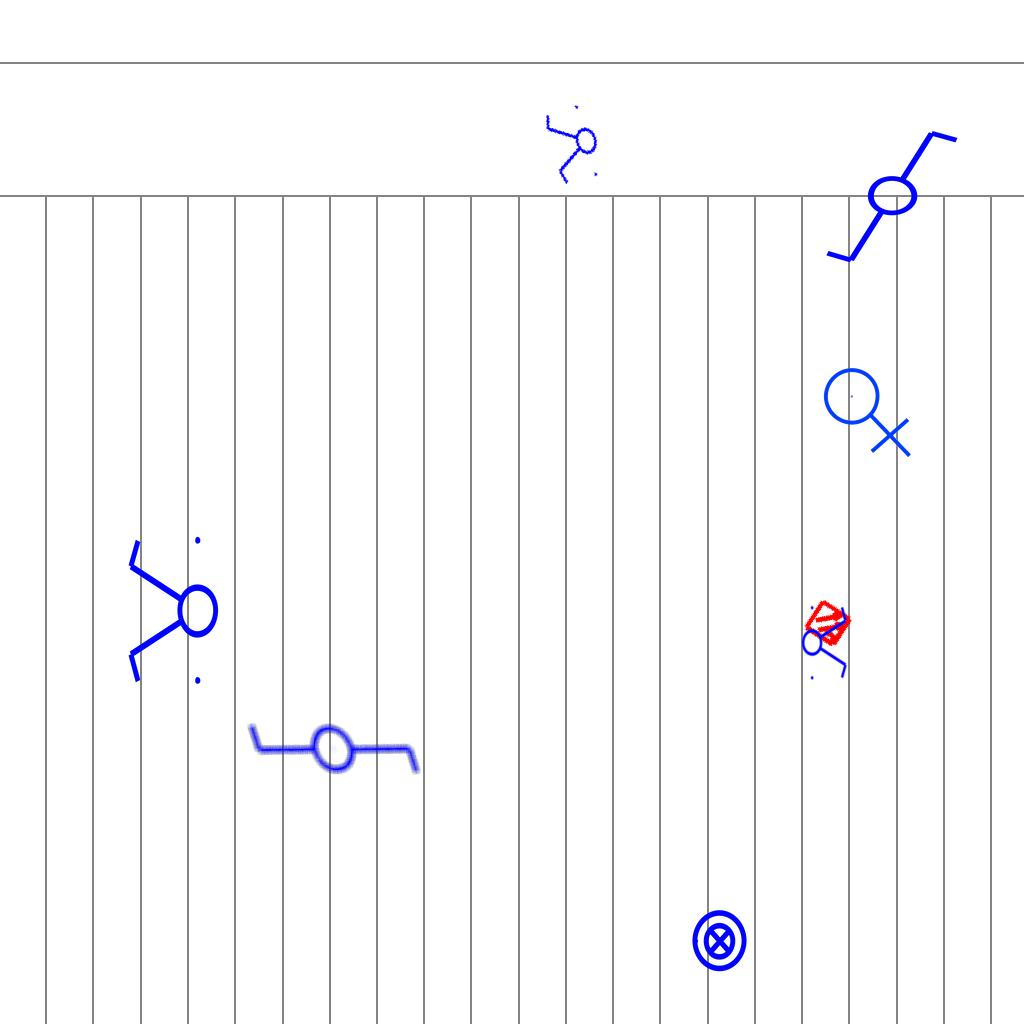Elektroanschluss_allgemein_230V_Geraeteanschlussdose_230V: (822, 359, 916, 458)
OT_Multisensormelder_(Kombination_RMO_WMD): (790, 585, 868, 663)
Serienschalter: (124, 528, 220, 696), (539, 98, 609, 192), (801, 600, 849, 684)
Taster_beleuchtet: (687, 908, 753, 974)
Wechselschalter: (227, 635, 434, 847), (822, 126, 979, 270)
